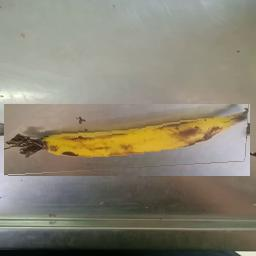Banana Semifresh: (5, 105, 251, 177)
